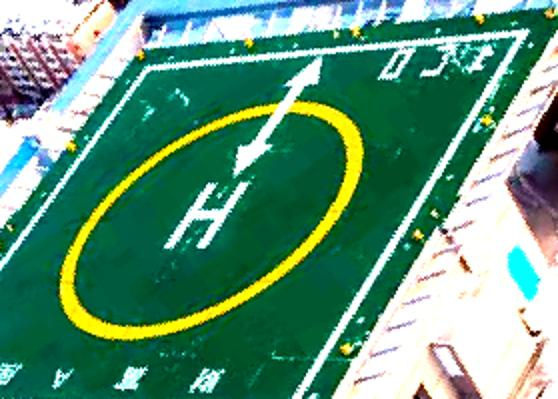Apron: (58, 102, 367, 343)
